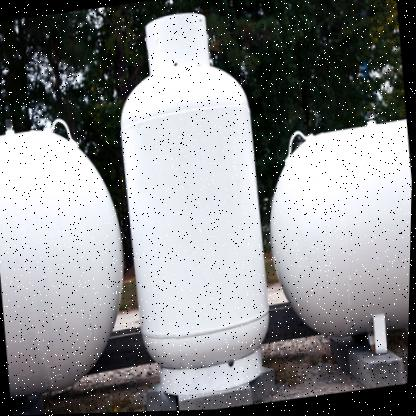gas-tank: (93, 0, 296, 410)
